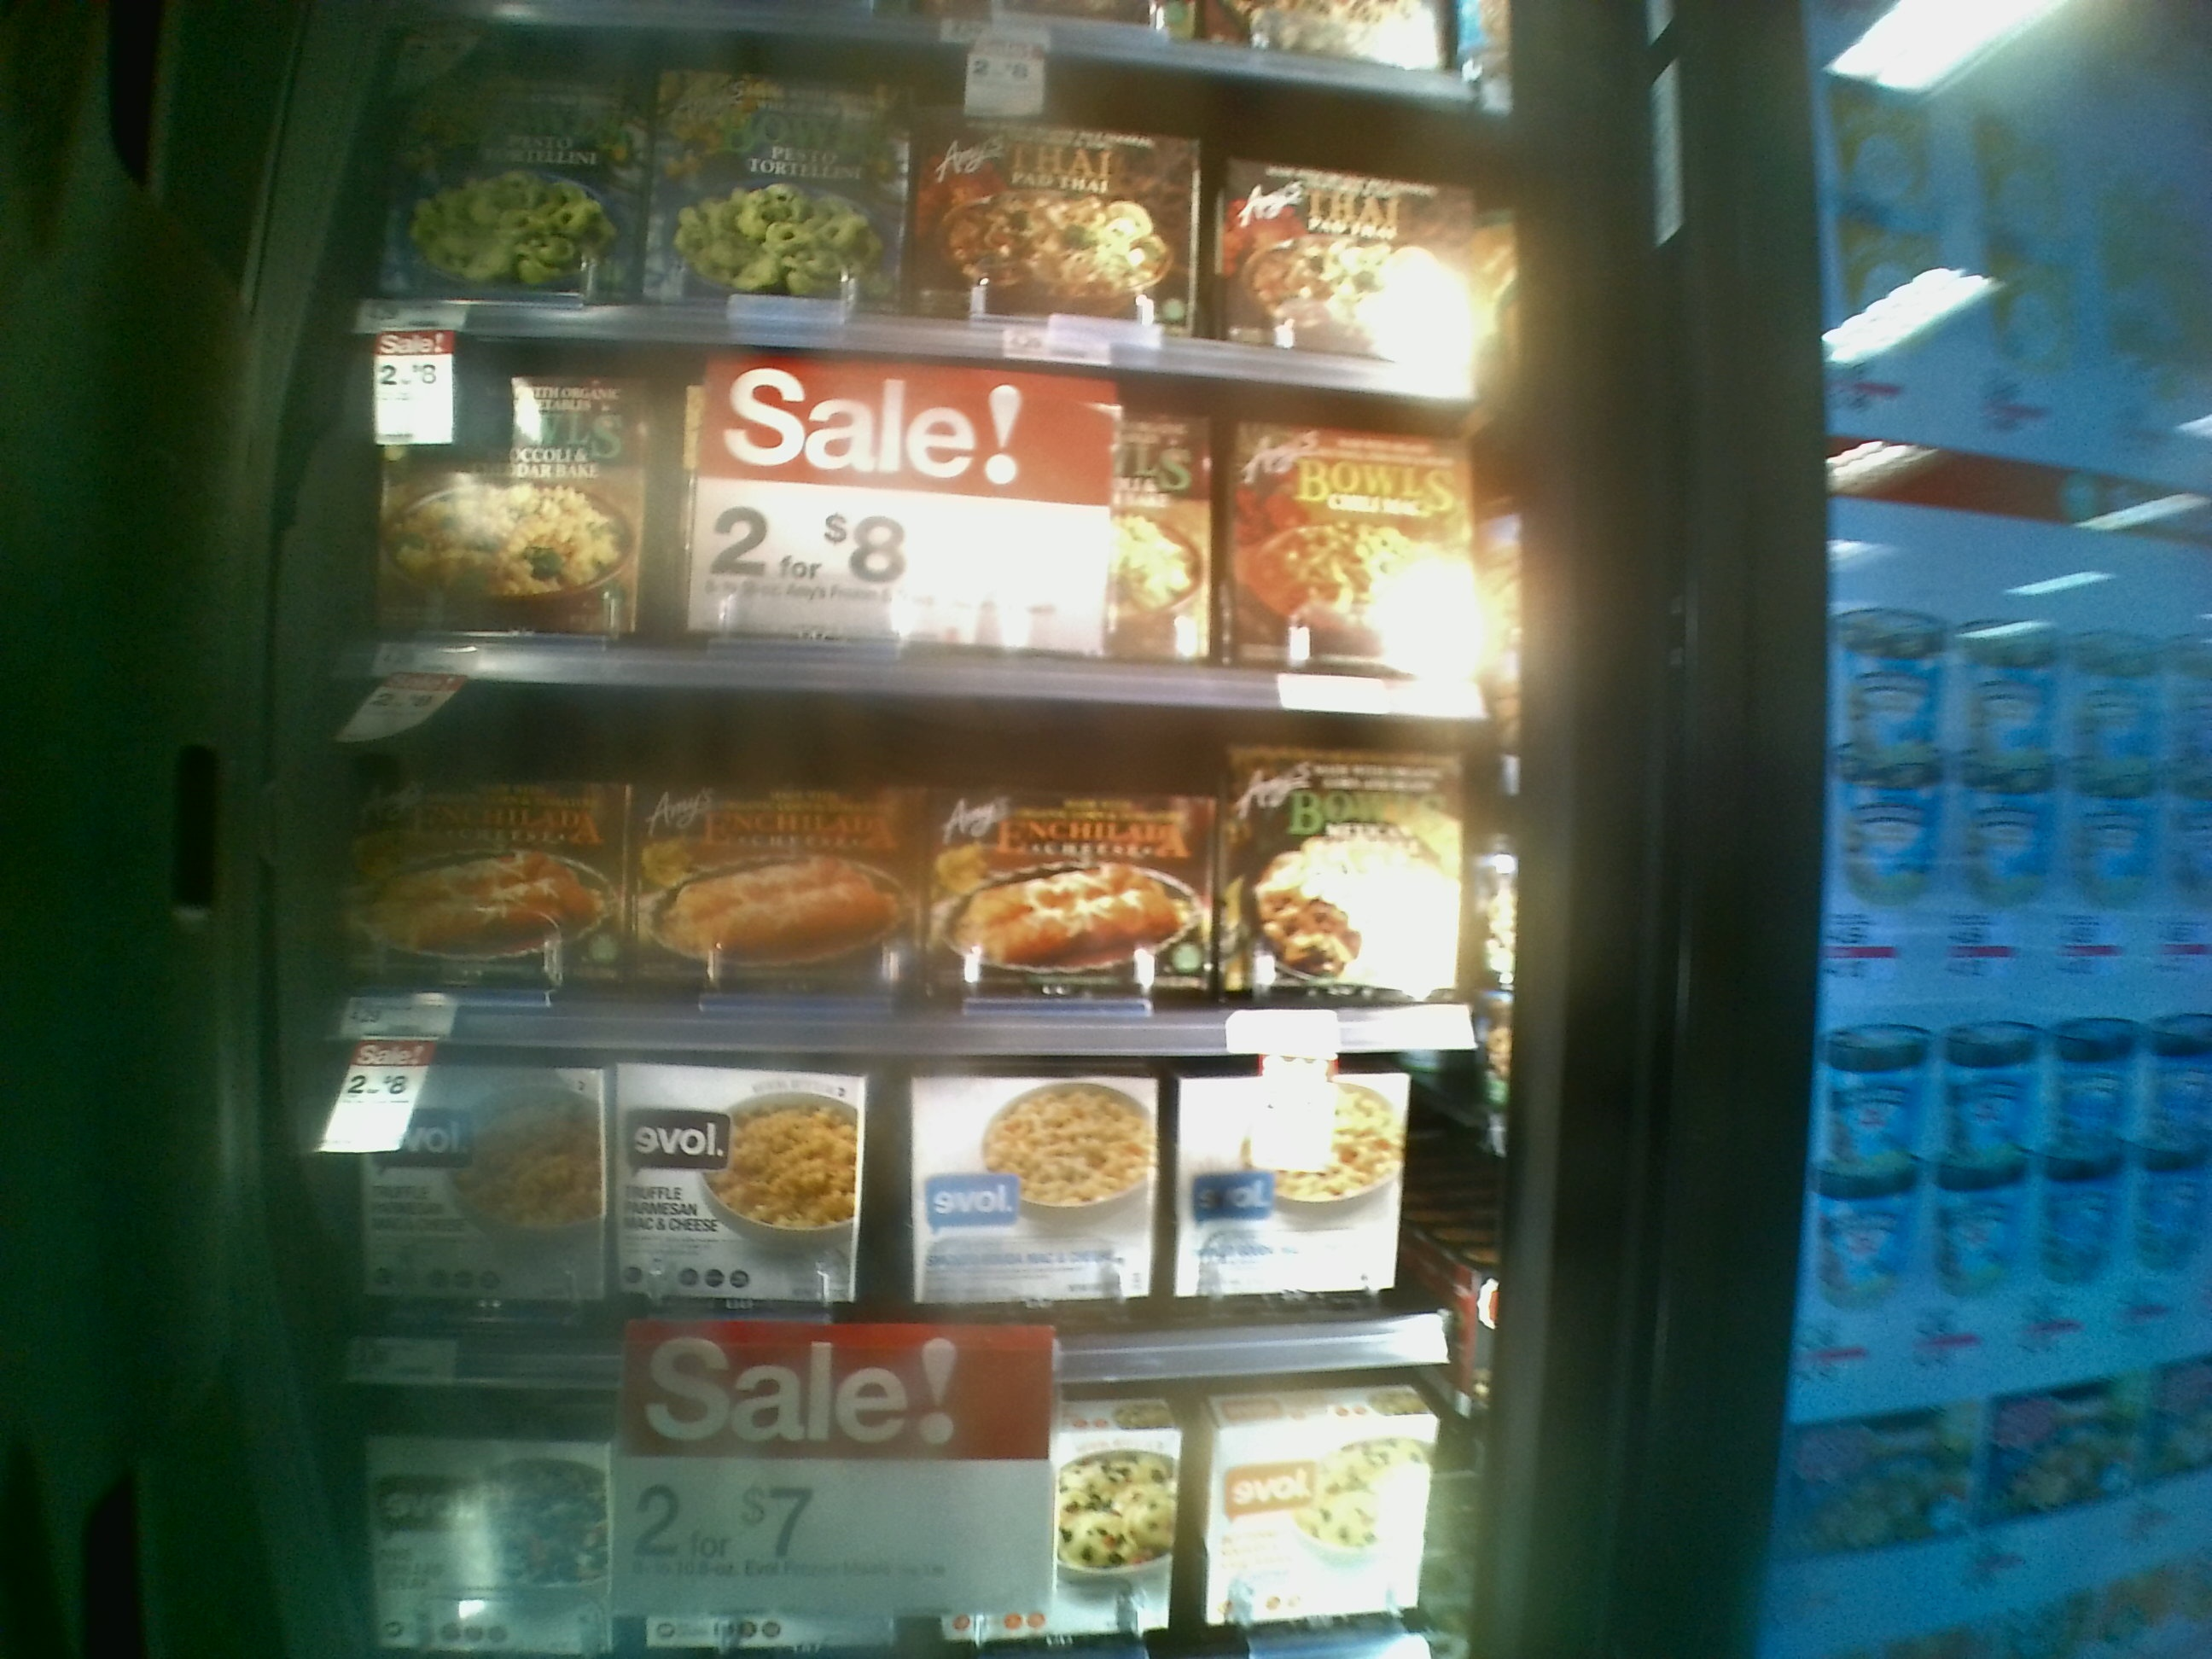shelf: (324, 694, 1503, 1030), (324, 1040, 1507, 1368), (329, 375, 1487, 708), (333, 45, 1494, 366), (347, 1377, 1508, 1659)
